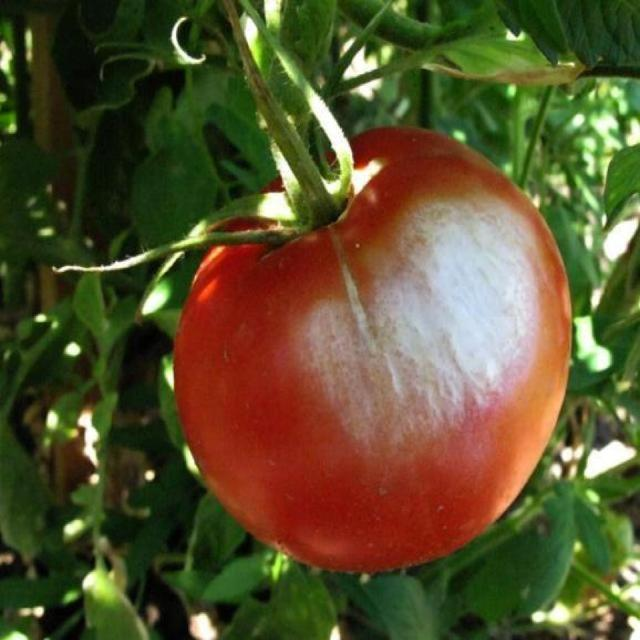Sunscald Fruit: (184, 128, 363, 320)
